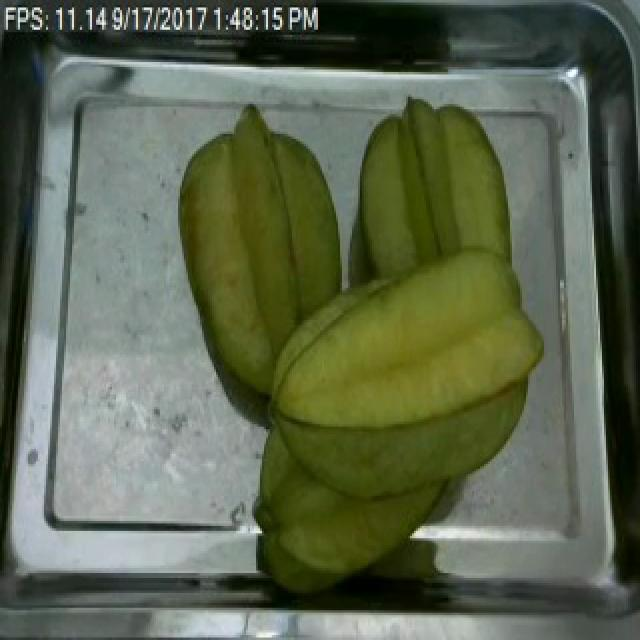fruit: (252, 248, 556, 454), (168, 109, 360, 414), (346, 90, 524, 286)
